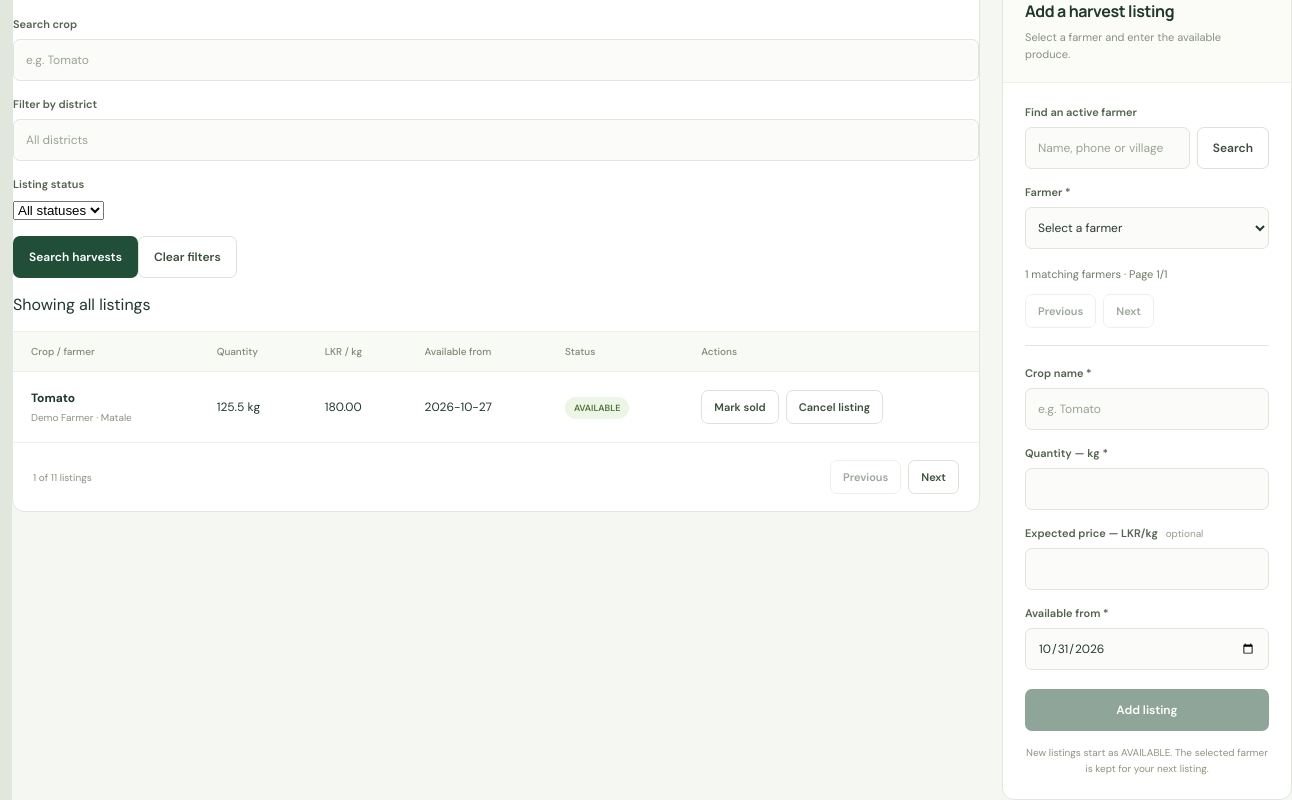
Scenario: HarvestListings › requests the next page and replaces the displayed listings
The width and height of the screenshot is (1292, 800).
(page scrolled)
Expected: the text "Tomato" is shown, [31,390,75,406]
Click the button "Next" in the row of "1 of 11 listings".
click(934, 477)  # box [908,460,959,494]
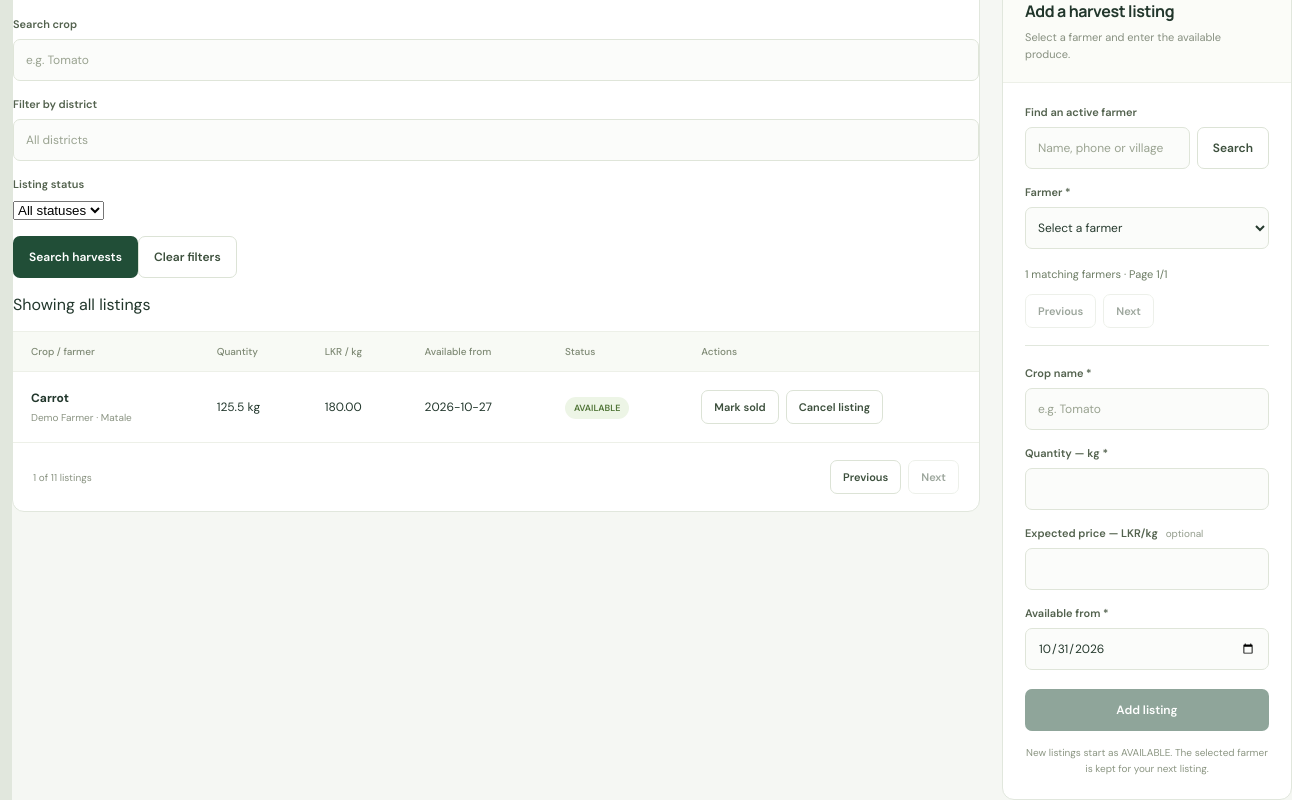
Now the text "Carrot" is shown, box [31,390,69,406]
Now the button "Previous" in the row of "1 of 11 listings" is enabled, box [830,460,901,494]
Now the button "Next" in the row of "1 of 11 listings" is disabled, box [908,460,959,494]
